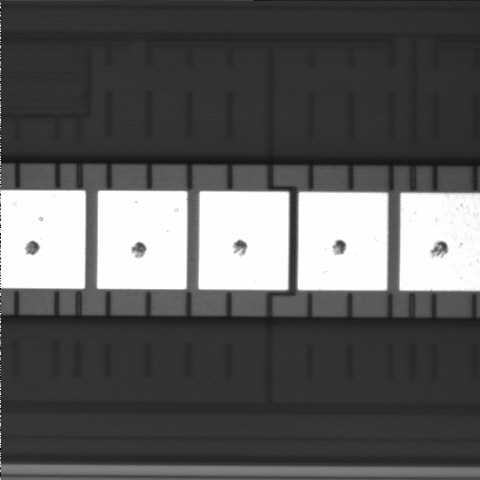pad: (199, 191, 289, 290), (97, 191, 187, 289), (298, 192, 388, 290)
